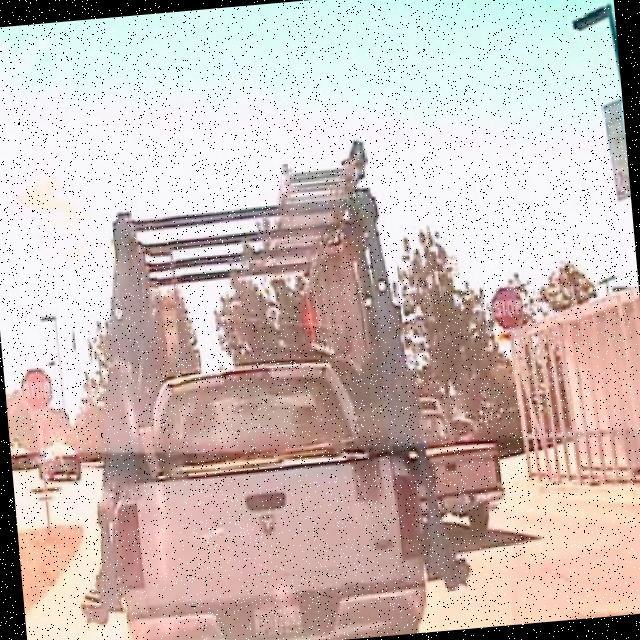Stop: (488, 283, 528, 333), (18, 368, 54, 416)
